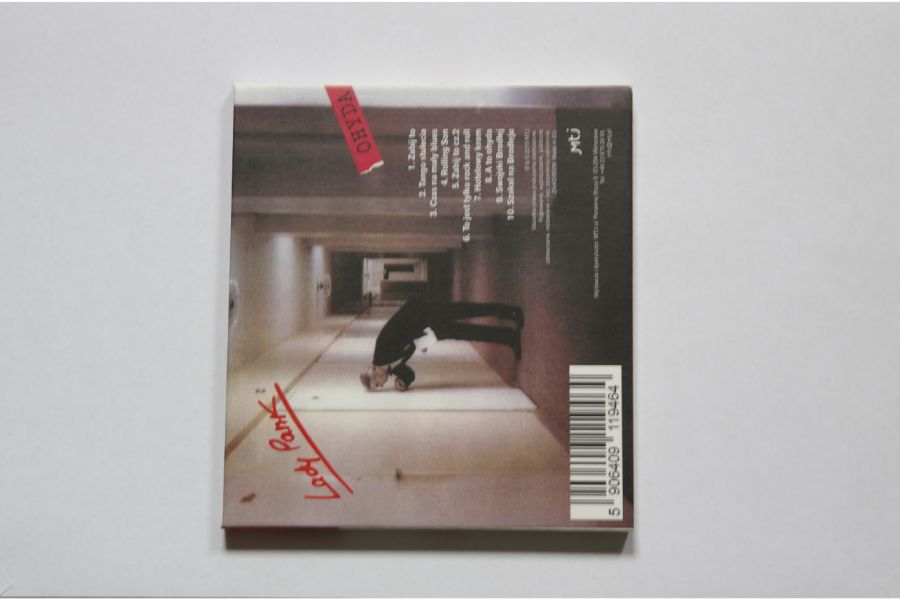album: (220, 81, 637, 534)
